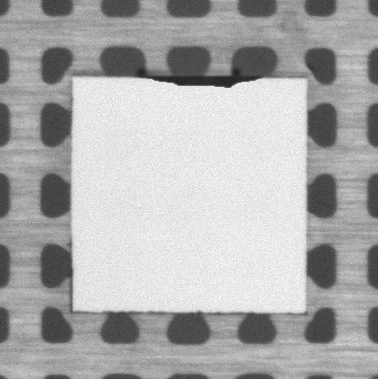DIE_BROKEN: (135, 72, 266, 89)
